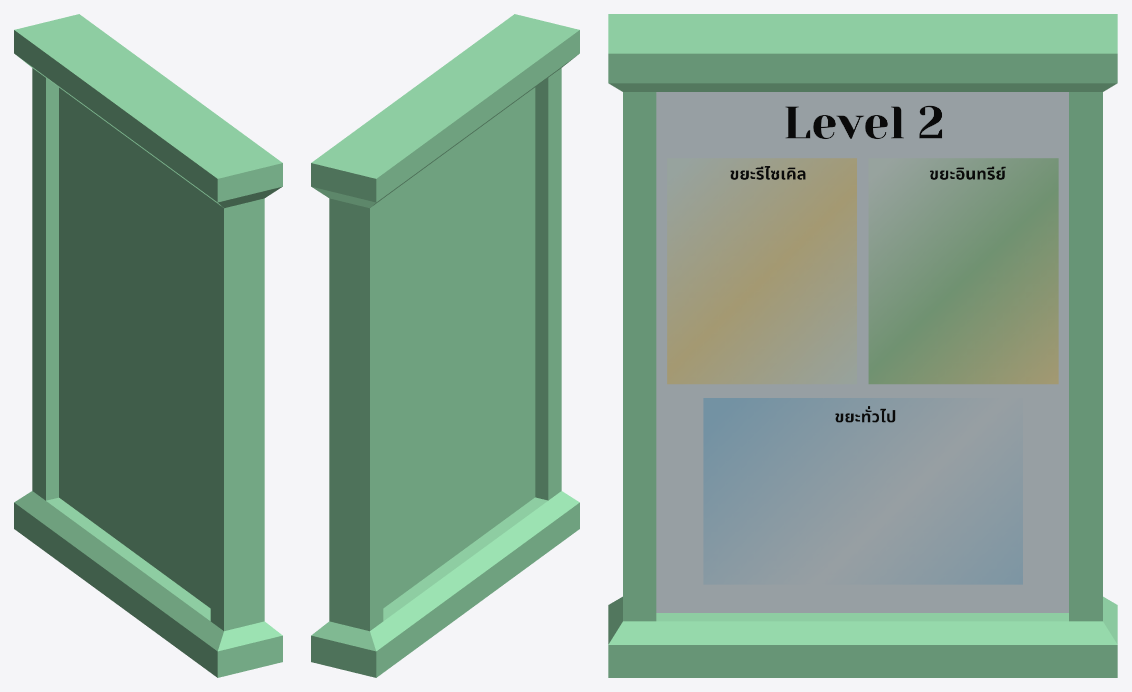
Rendered from L_Level2.fbx.
The picture shows the model from 3 angles, left to right: view 1: azimuth 30°, elevation 25°; view 2: azimuth 150°, elevation 25°; view 3: azimuth 270°, elevation 25°; orthographic projection. The views are drawn at different scales.
Parts seen in each view (by area): view 1: pCube2; view 2: pCube2; view 3: pCube2.
Boxes of the visible parts, bbox=[...] form: pCube2: bbox=[14, 14, 282, 677]; pCube2: bbox=[311, 14, 579, 677]; pCube2: bbox=[608, 14, 1117, 677].
Bounding box in the file's own units: 1.93 × 14.13 × 10.45.
